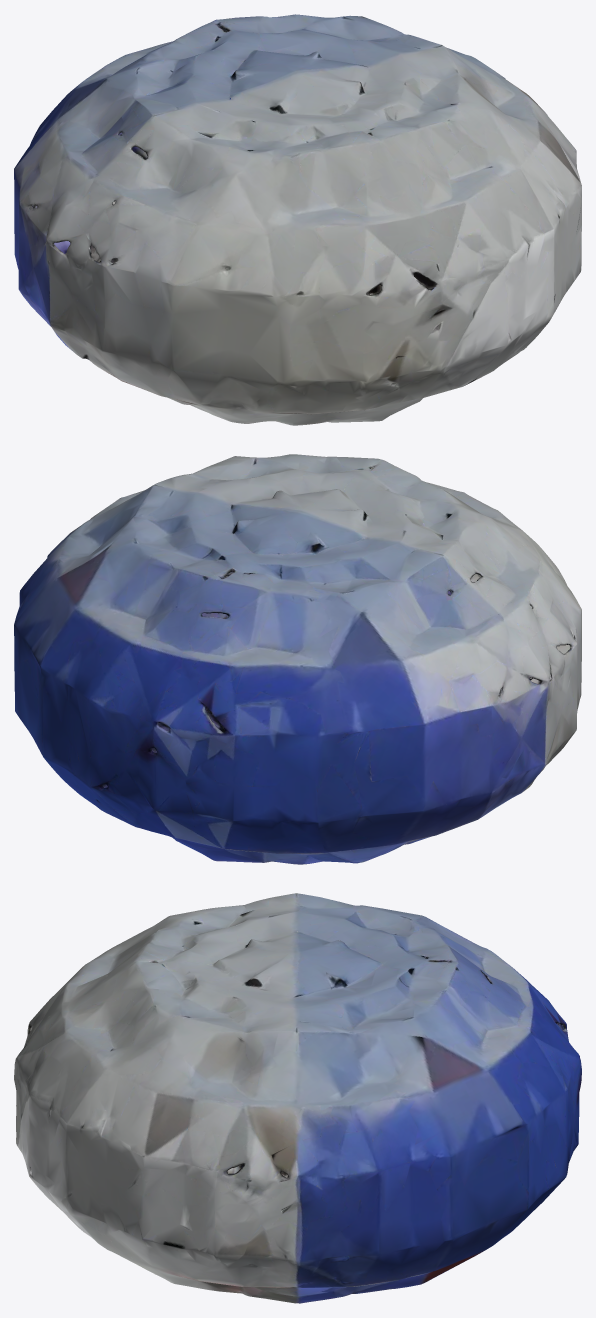
Rendered from apex-gem.glb.
3 renders of one model, top to bottom at view 1: azimuth 30°, elevation 25°; view 2: azimuth 150°, elevation 25°; view 3: azimuth 270°, elevation 25°, orthographic.
Size of the model in its own units: 2 by 1.13 by 2.
Materials: 1 (1 with a texture image).
